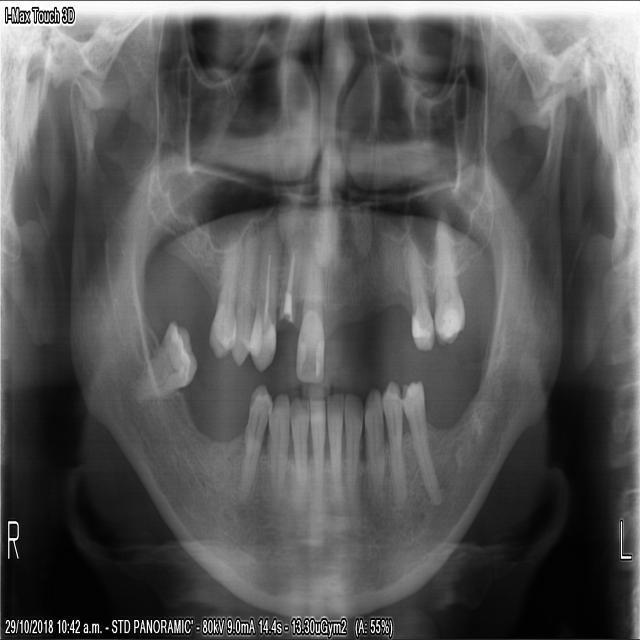LCD: (362, 389, 385, 510)
LID: (342, 384, 363, 489), (326, 387, 343, 494)
LMU: (419, 220, 466, 349)
LPMD: (402, 374, 445, 502), (380, 368, 407, 512)
LPMU: (403, 241, 435, 357), (428, 242, 439, 354)
RCD: (264, 388, 288, 485)
RCU: (249, 212, 279, 377)
RID: (288, 384, 308, 503), (306, 390, 325, 513)
RIU: (293, 244, 325, 385), (277, 212, 302, 337)
RMD: (132, 314, 200, 403)
RPMD: (231, 383, 273, 492)
RPMU: (206, 221, 238, 363), (230, 223, 255, 369)
